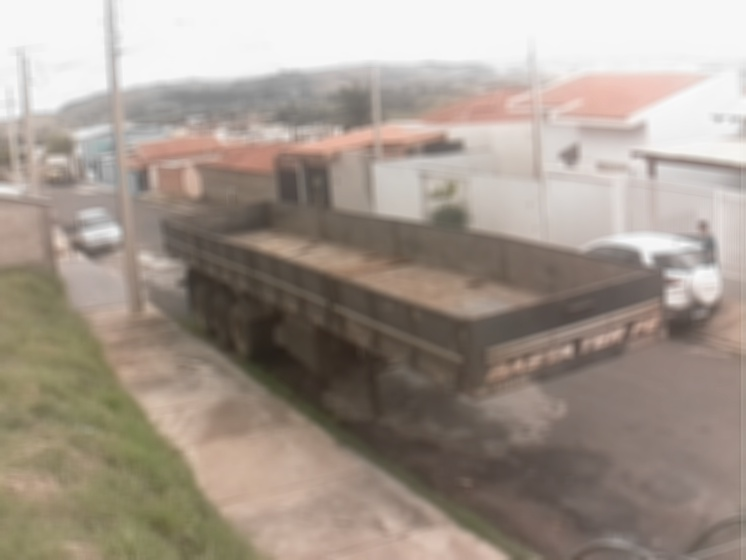person: (694, 218, 721, 269)
